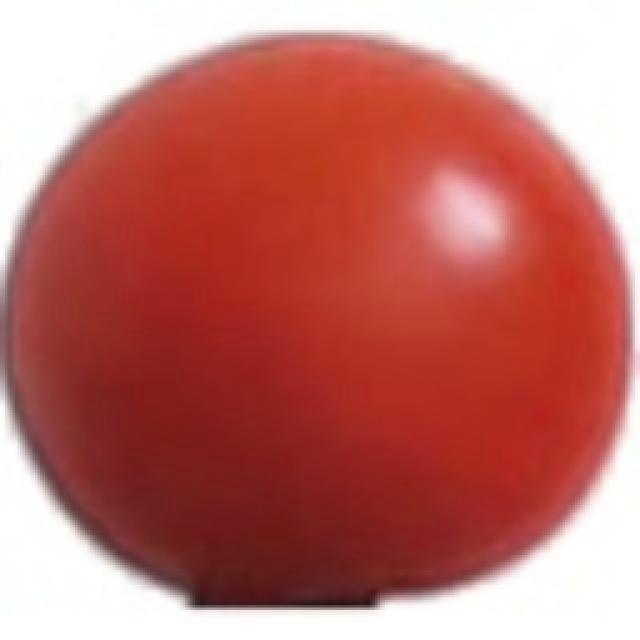tomato: (1, 32, 633, 611)
